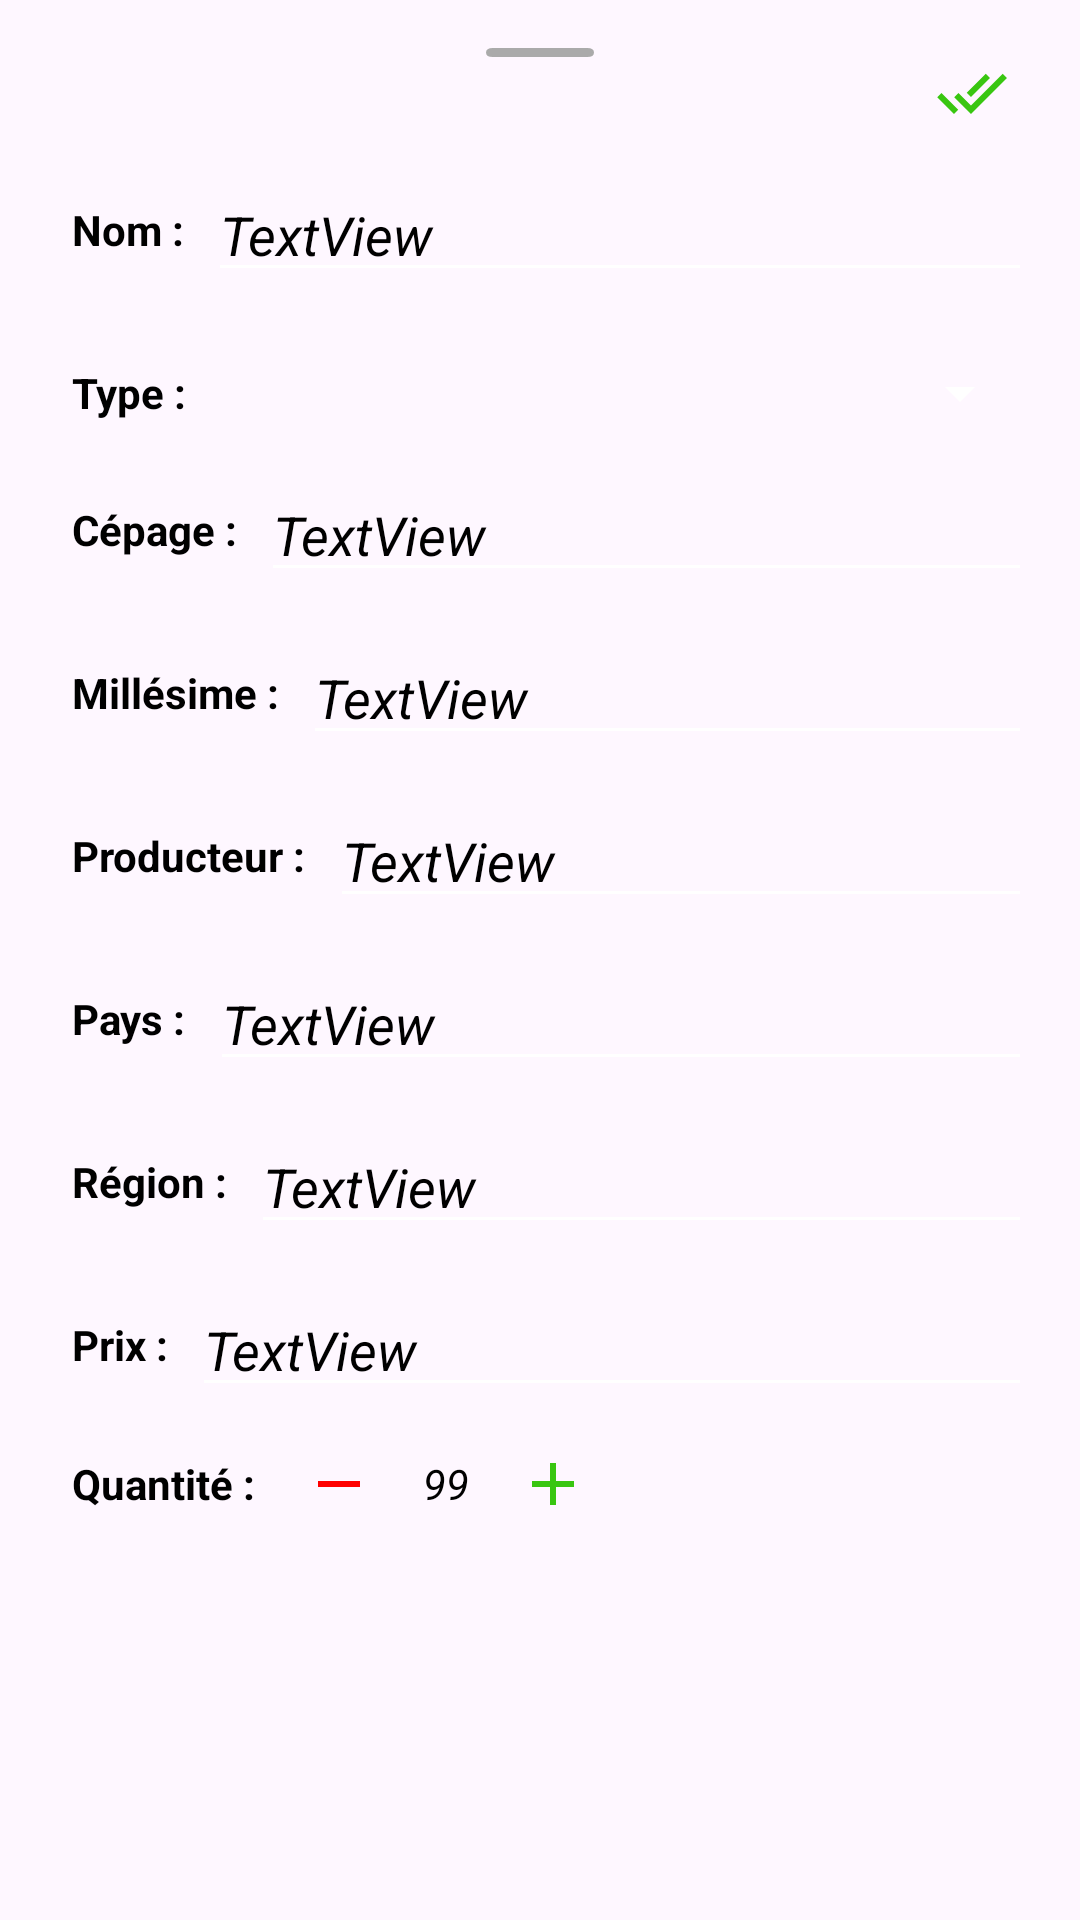

Locate icon controls on the screen. Image size 1080 × 1920, boxes as bbox(x1, y1, x2, y2).
add: bbox(532, 1463, 574, 1505)
done all: bbox(937, 74, 1007, 114)
